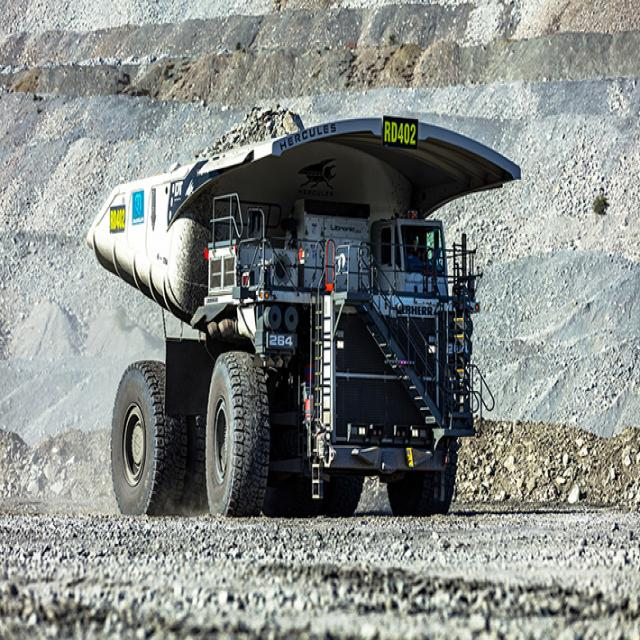dump_truck: (80, 97, 522, 521)
